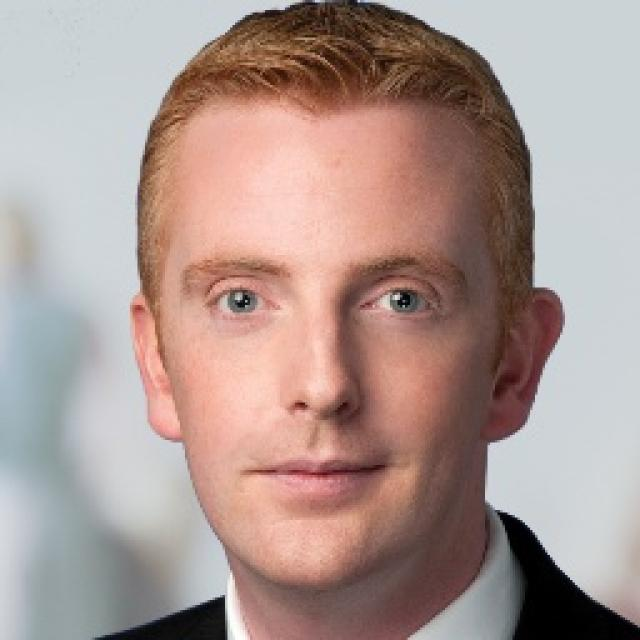earlobe: (484, 286, 566, 442), (484, 396, 520, 442), (149, 400, 185, 442)
eye: (361, 286, 439, 320), (205, 284, 277, 317)
nose: (282, 397, 362, 449)
wholeear: (130, 292, 186, 442)
